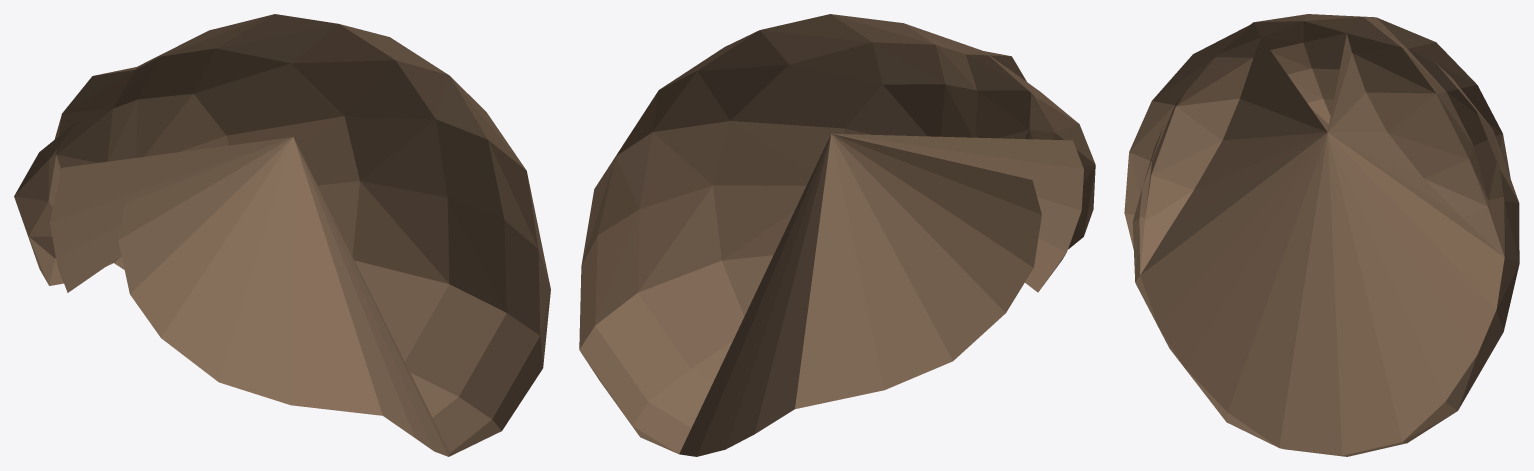
Rendered from hair-default.glb.
3 renders of one model, left to right at view 1: azimuth 30°, elevation 25°; view 2: azimuth 150°, elevation 25°; view 3: azimuth 270°, elevation 25°, orthographic. The views are drawn at different scales.
Visible parts, largest first — view 1: hair-default; view 2: hair-default; view 3: hair-default.
Boxes of the visible parts, x1,y1,x2,y2 form: hair-default: (14,14,550,456); hair-default: (579,14,1095,456); hair-default: (1124,14,1519,456).
Size of the model in its own units: 0.689 by 0.6049 by 0.6149.
